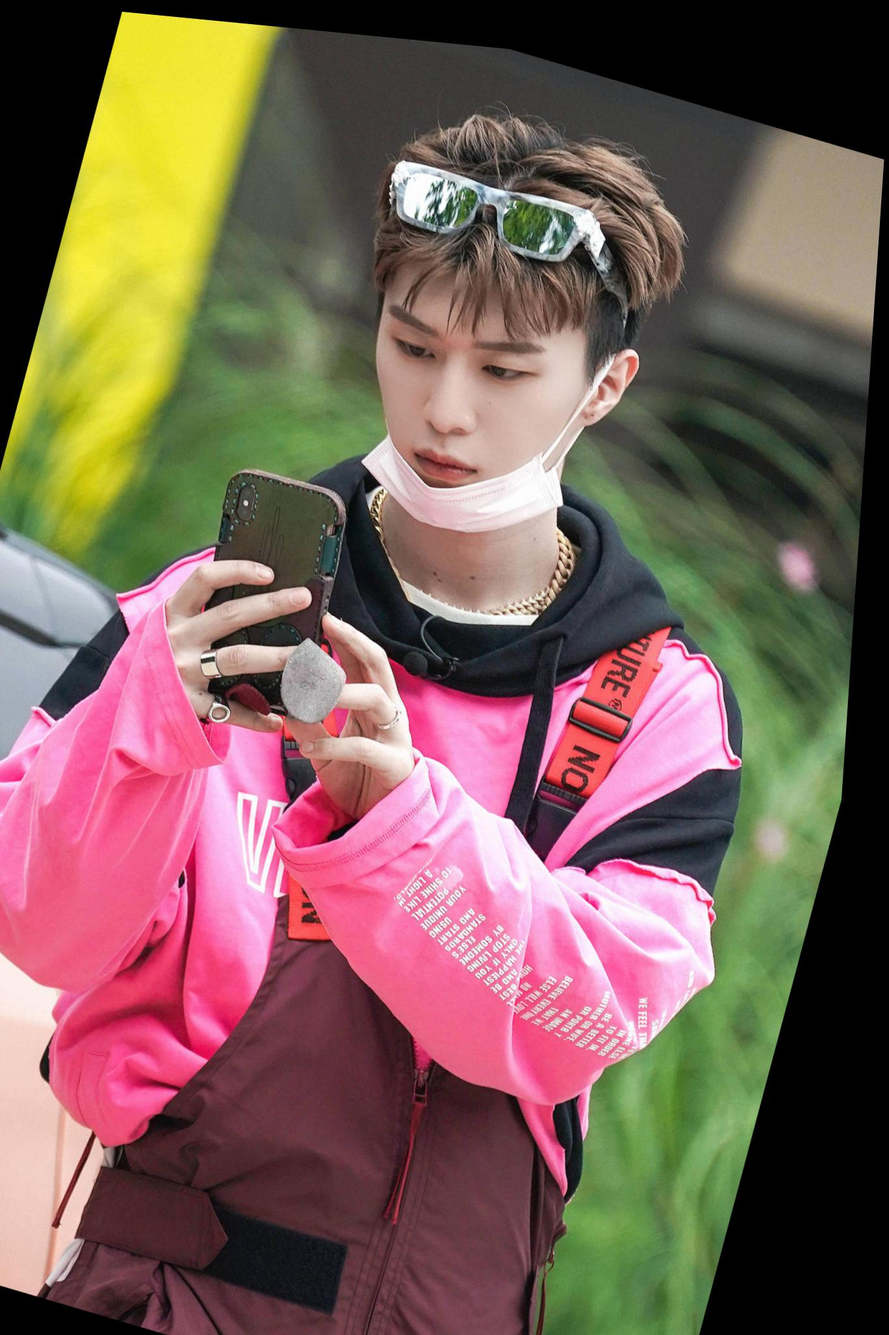WRONG: (336, 252, 594, 540)
